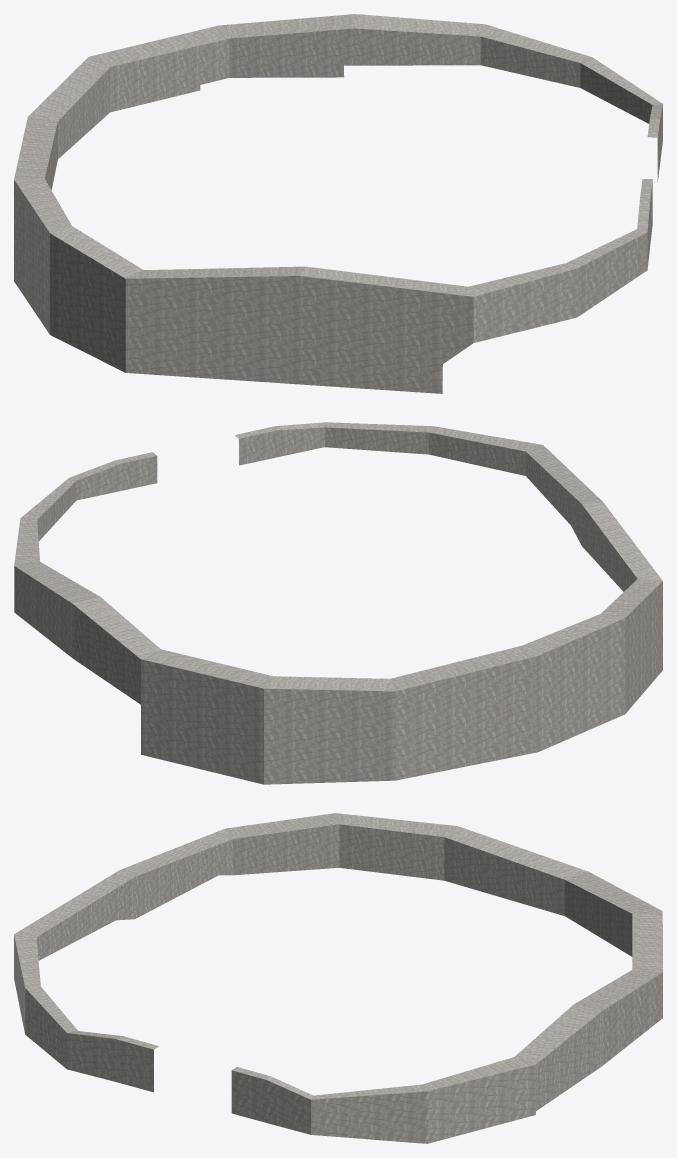
The model's file is kd_stage_1364a3_13_10.glb.
3 renders of one model, top to bottom at view 1: azimuth 30°, elevation 25°; view 2: azimuth 150°, elevation 25°; view 3: azimuth 270°, elevation 25°, orthographic. The views are drawn at different scales.
Parts seen in each view (by area): view 1: kd_stage_1364a3_13_10; view 2: kd_stage_1364a3_13_10; view 3: kd_stage_1364a3_13_10.
Part boxes in pixels (left/top/right/bottom): kd_stage_1364a3_13_10: left=14, top=14, right=662, bottom=393; kd_stage_1364a3_13_10: left=14, top=422, right=662, bottom=784; kd_stage_1364a3_13_10: left=14, top=813, right=662, bottom=1143.
Size of the model in its own units: 47.67 by 8.39 by 46.77.
Materials: 1 (1 with a texture image).
